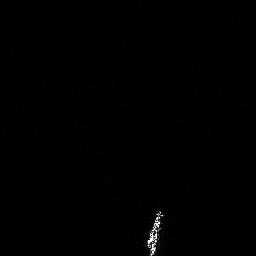ship: (141, 206, 169, 256)
